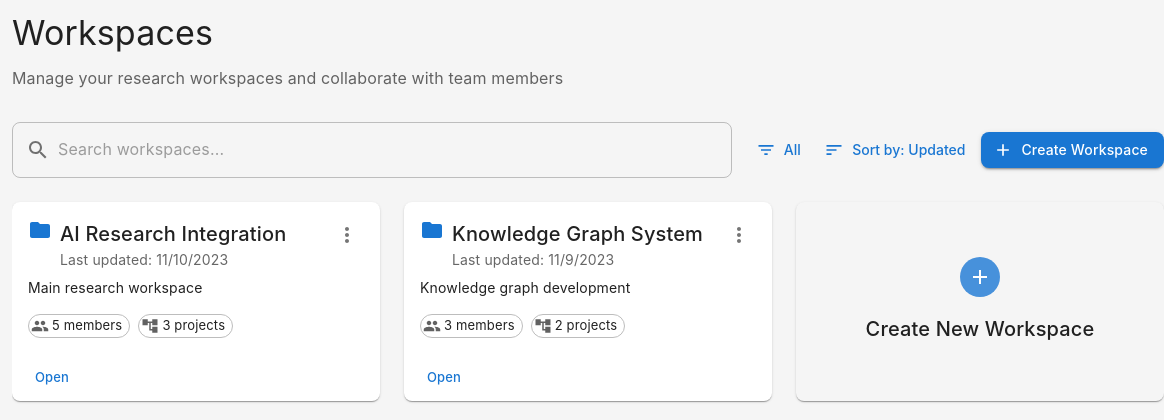
Test: WorkspaceList Component › filters workspaces by search query
Step 1. Type "graph" into the field with placeholder "Search workspaces..." → [395, 150], box x1=58 y1=122 x2=732 y2=178
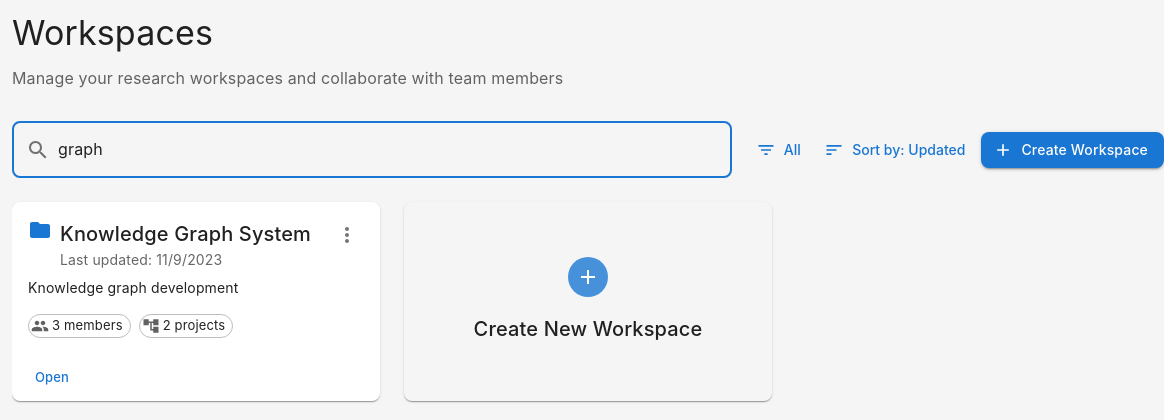
expect the heading "Knowledge Graph System" is shown: met, box x1=60 y1=218 x2=330 y2=250
expect the heading "AI Research Integration" is gone: met
